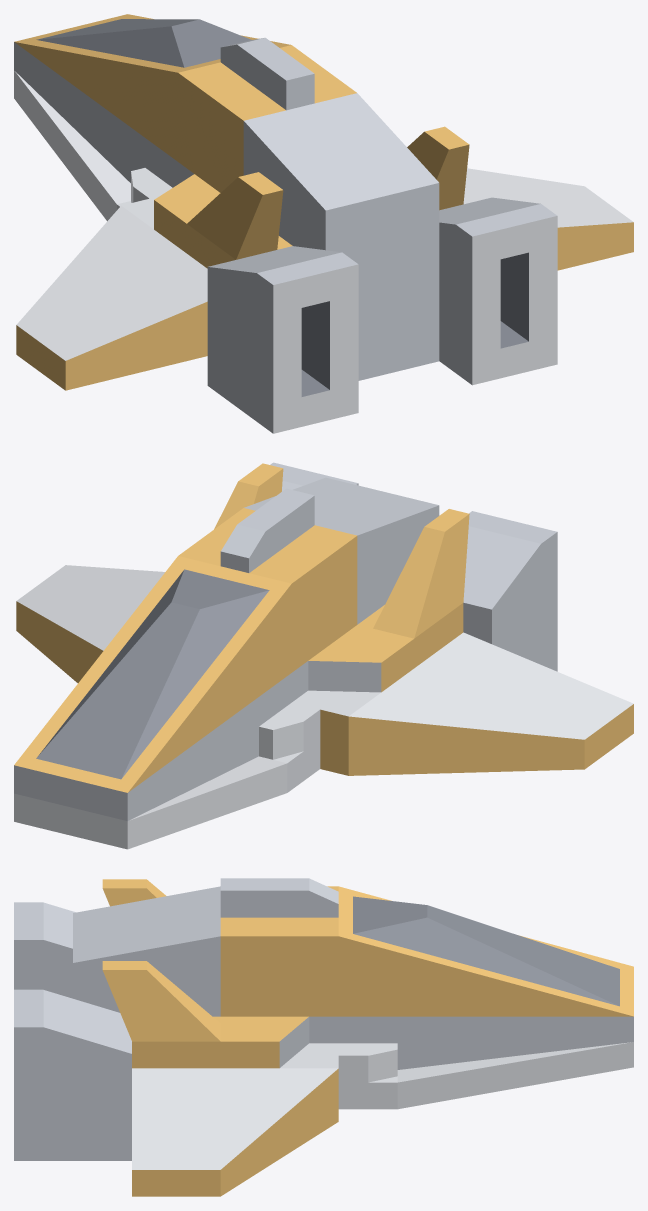
The model's file is craft_speederA.glb.
The picture shows the model from 3 angles, top to bottom: view 1: azimuth 30°, elevation 25°; view 2: azimuth 150°, elevation 25°; view 3: azimuth 270°, elevation 25°; orthographic projection. The views are drawn at different scales.
Visible parts, largest first — view 1: craft_speederA; view 2: craft_speederA; view 3: craft_speederA.
Boxes of the visible parts, <box> form: craft_speederA: <box>14,14,633,433</box>; craft_speederA: <box>14,462,633,849</box>; craft_speederA: <box>14,878,633,1196</box>.
Bounding box in the file's own units: 2 × 0.8 × 2.1.
1 material, 1 textured.
